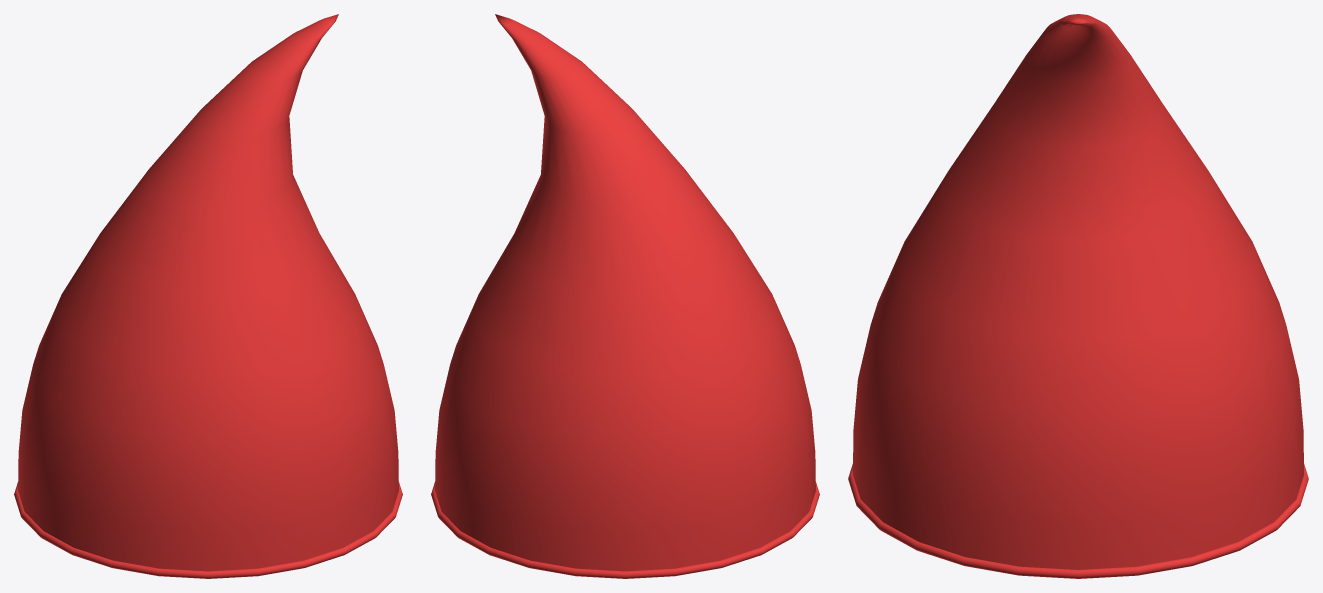
Rendered from GORRO DO SACI.fbx.
The picture shows the model from 3 angles, left to right: view 1: azimuth 30°, elevation 25°; view 2: azimuth 150°, elevation 25°; view 3: azimuth 270°, elevation 25°; orthographic projection. The views are drawn at different scales.
Visible parts, largest first — view 1: Círculo, Círculo.001; view 2: Círculo, Círculo.001; view 3: Círculo, Círculo.001.
Boxes of the visible parts, x1,y1,x2,y2 form: Círculo: (18, 14, 398, 571); Círculo.001: (14, 481, 402, 578); Círculo: (435, 14, 815, 571); Círculo.001: (431, 481, 819, 578); Círculo: (853, 14, 1303, 569); Círculo.001: (848, 464, 1308, 578).
Bounding box in the file's own units: 195 × 250 × 195.
